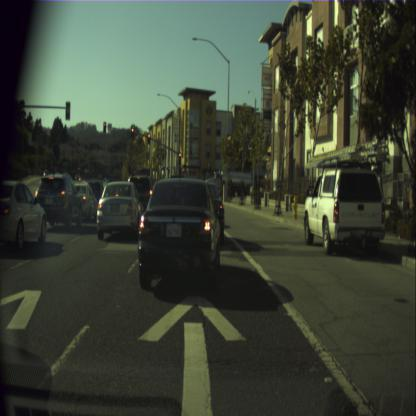Red: (146, 133, 150, 144), (130, 127, 134, 138), (178, 152, 181, 164)
RedLeft: (104, 122, 106, 132)
